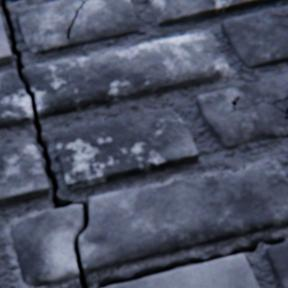brick: (55, 110, 198, 189), (195, 76, 287, 149), (16, 0, 138, 55), (106, 254, 258, 287), (221, 8, 287, 69), (148, 0, 285, 27), (0, 143, 49, 205), (265, 242, 287, 287), (0, 17, 12, 65)
broken_brick: (79, 165, 287, 274), (22, 34, 228, 119), (12, 205, 82, 286), (0, 71, 33, 129), (11, 0, 28, 3)
crack: (0, 0, 90, 287), (96, 236, 286, 287), (67, 0, 113, 40), (271, 100, 287, 119), (230, 96, 238, 112), (253, 101, 267, 105), (272, 25, 287, 28), (273, 16, 287, 18)
